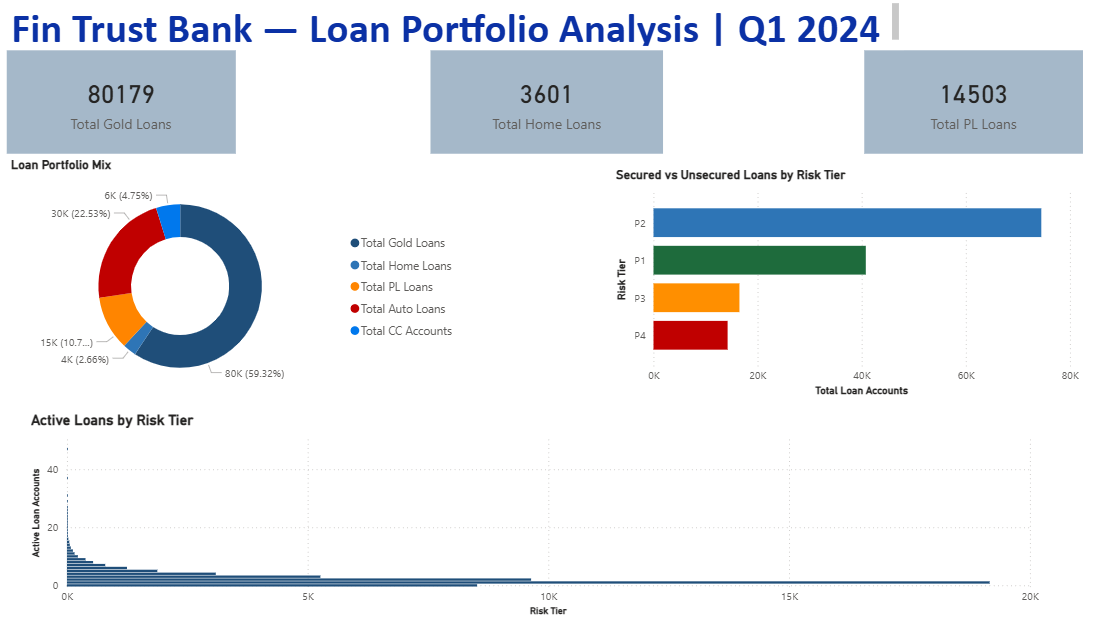

Layout of this report page (visuals, bound fields, positions):
{"tool":"powerbi","page":{"name":"Loan Analysis","canvas":[1280,720],"ordinal":2},"visuals":[{"type":"donutChart","title":" Loan Portfolio Mix","fields":{"Y":["fintrust_db internal_bank_data.Total Gold Loans","fintrust_db internal_bank_data.Total Home Loans","fintrust_db internal_bank_data.Total PL Loans","fintrust_db internal_bank_data.Total Auto Loans","fintrust_db internal_bank_data.Total CC Accounts"]},"box":[0,184.6,530.7,280],"z":0},{"type":"clusteredBarChart","title":" Secured vs Unsecured Loans by Risk Tier","fields":{"Category":["fintrust_db external_cibil_data.Approved_Flag"],"Y":["Sum(fintrust_db internal_bank_data.Secured_TL)"]},"box":[701.9,192,553.9,293.5],"z":1000},{"type":"clusteredBarChart","title":" Active Loans by Risk Tier","fields":{"Y":["CountNonNull(fintrust_db external_cibil_data.Approved_Flag)"],"Category":["fintrust_db internal_bank_data.Tot_Active_TL"]},"box":[0,464.7,1280.3,255.6],"z":2000},{"type":"card","fields":{"Values":["fintrust_db internal_bank_data.Total Gold Loans"]},"box":[0,63.6,288.6,121.1],"z":3000},{"type":"card","fields":{"Values":["fintrust_db internal_bank_data.Total Home Loans"]},"box":[421.9,58.7,280,126],"z":4000},{"type":"card","fields":{"Values":["fintrust_db internal_bank_data.Total PL Loans"]},"box":[1000.3,72.1,280,112.5],"z":5000},{"type":"textbox","box":[0,0,1094.4,72.1],"z":6000}]}

Visuals, with their boxes in screenshot pixels (x1, y1, x2, y2), scaled from the page's 1280x720 canvas onto the 1101x618 screenshot:
" Loan Portfolio Mix" donutChart: (left=0, top=158, right=456, bottom=399)
" Secured vs Unsecured Loans by Risk Tier" clusteredBarChart: (left=604, top=165, right=1080, bottom=417)
" Active Loans by Risk Tier" clusteredBarChart: (left=0, top=399, right=1100, bottom=617)
card - fintrust_db internal_bank_data.Total Gold Loans: (left=0, top=55, right=248, bottom=159)
card - fintrust_db internal_bank_data.Total Home Loans: (left=363, top=50, right=604, bottom=159)
card - fintrust_db internal_bank_data.Total PL Loans: (left=860, top=62, right=1100, bottom=158)
textbox: (left=0, top=0, right=941, bottom=62)
